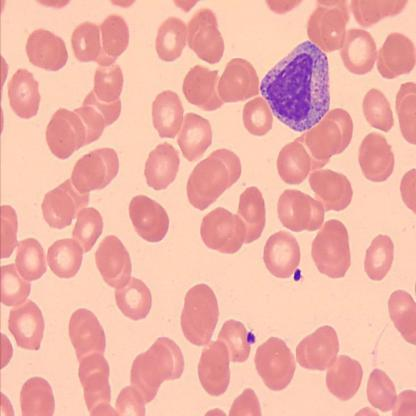Myelocyte: (260, 38, 332, 134)
